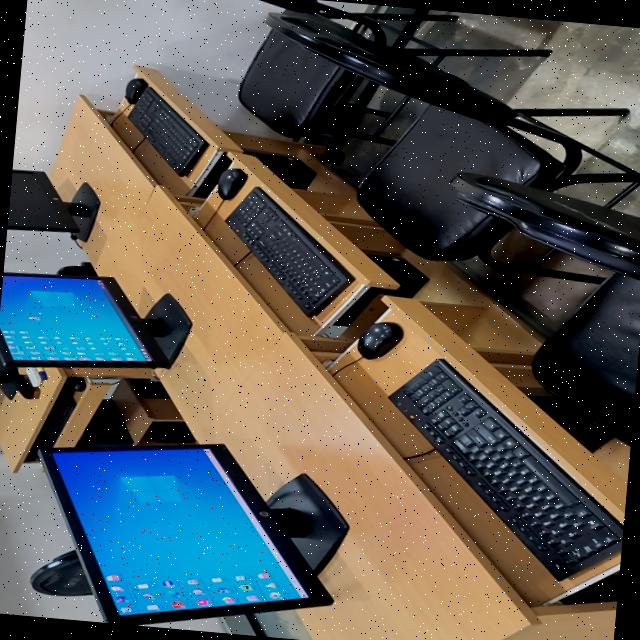Chair: (269, 12, 640, 282), (450, 172, 640, 445), (238, 21, 395, 144), (262, 0, 457, 58), (30, 549, 91, 595)
Cpu: (336, 253, 428, 324), (529, 394, 615, 451), (251, 152, 315, 188), (130, 378, 169, 397)
Keyboard: (390, 358, 623, 580), (225, 186, 354, 315), (129, 87, 208, 175), (30, 379, 75, 453)
Monitor: (40, 443, 347, 625), (0, 271, 189, 367), (7, 169, 99, 241), (0, 355, 39, 398)
Mouse: (356, 321, 403, 358), (217, 167, 247, 199), (124, 77, 147, 103), (70, 376, 85, 391)
